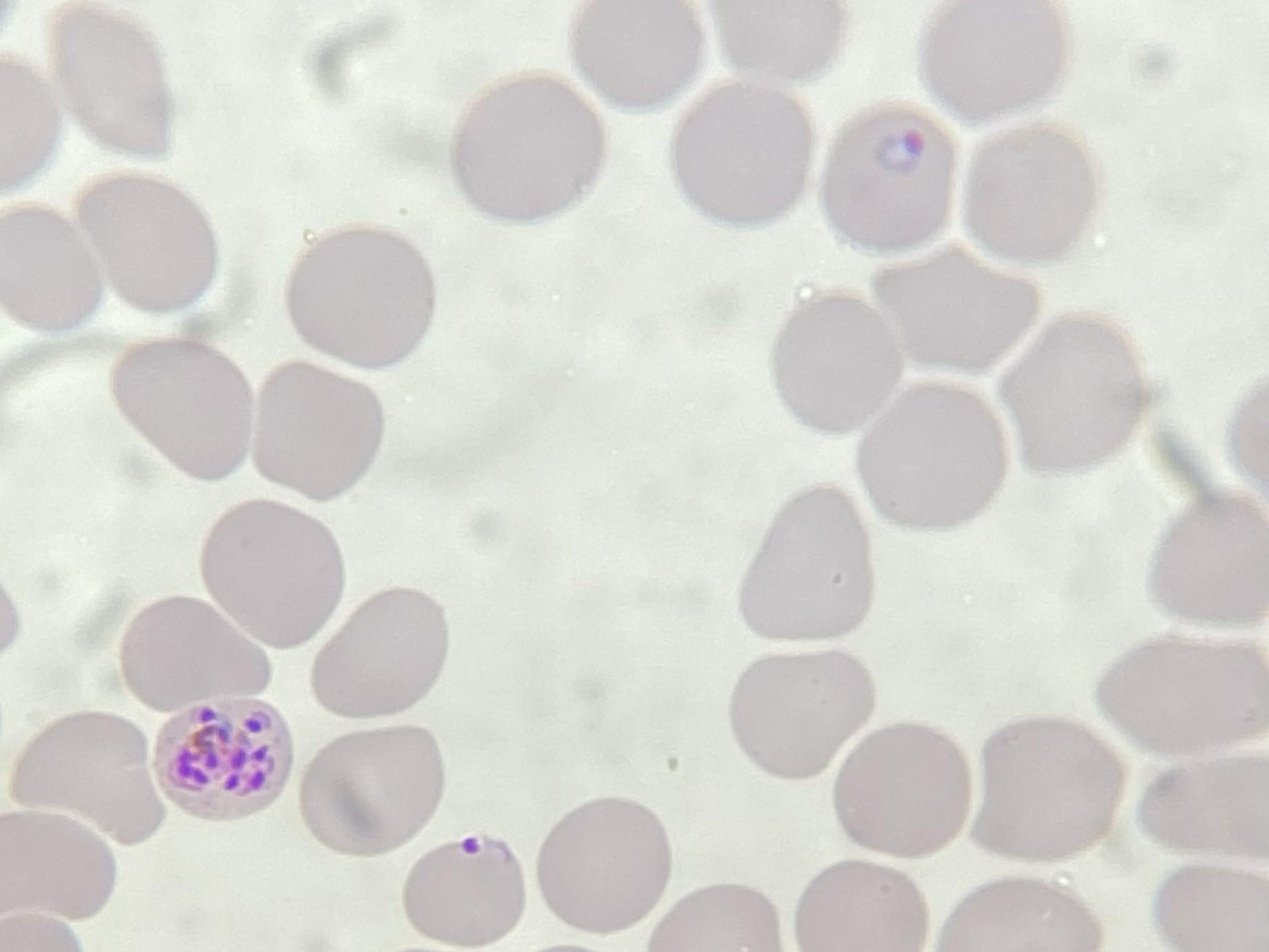Infected: (307, 695, 450, 848), (977, 130, 1114, 252), (743, 6, 863, 118)
Uninfected: (259, 422, 414, 575), (121, 477, 269, 637), (145, 89, 305, 234), (663, 728, 815, 875), (1, 191, 174, 320), (921, 304, 1066, 455), (228, 579, 397, 707), (832, 584, 982, 726), (452, 724, 595, 872), (1107, 106, 1257, 243), (1014, 470, 1155, 615), (394, 310, 528, 462), (1048, 637, 1190, 779), (362, 518, 498, 664), (882, 450, 1019, 594), (170, 686, 308, 828), (391, 171, 543, 298), (295, 92, 435, 229), (822, 97, 967, 228), (820, 232, 959, 364), (596, 21, 732, 155), (199, 829, 349, 950), (1095, 793, 1215, 942), (1000, 238, 1146, 359), (0, 89, 132, 204), (563, 842, 695, 952), (1161, 617, 1269, 749)
